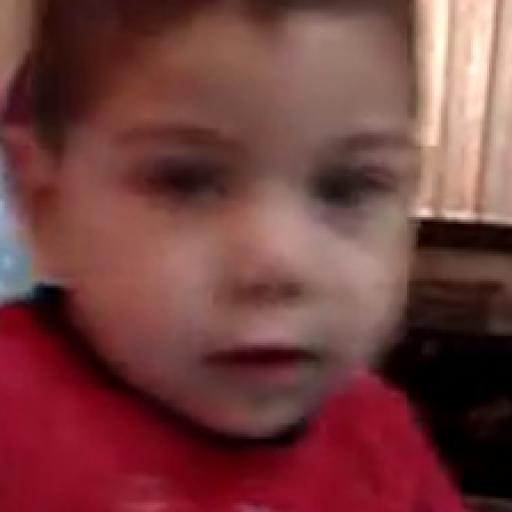Autism: (41, 39, 415, 472)
